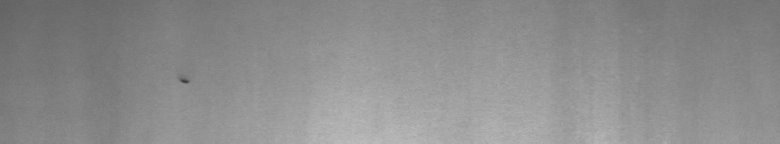fi: (178, 72, 190, 91)
